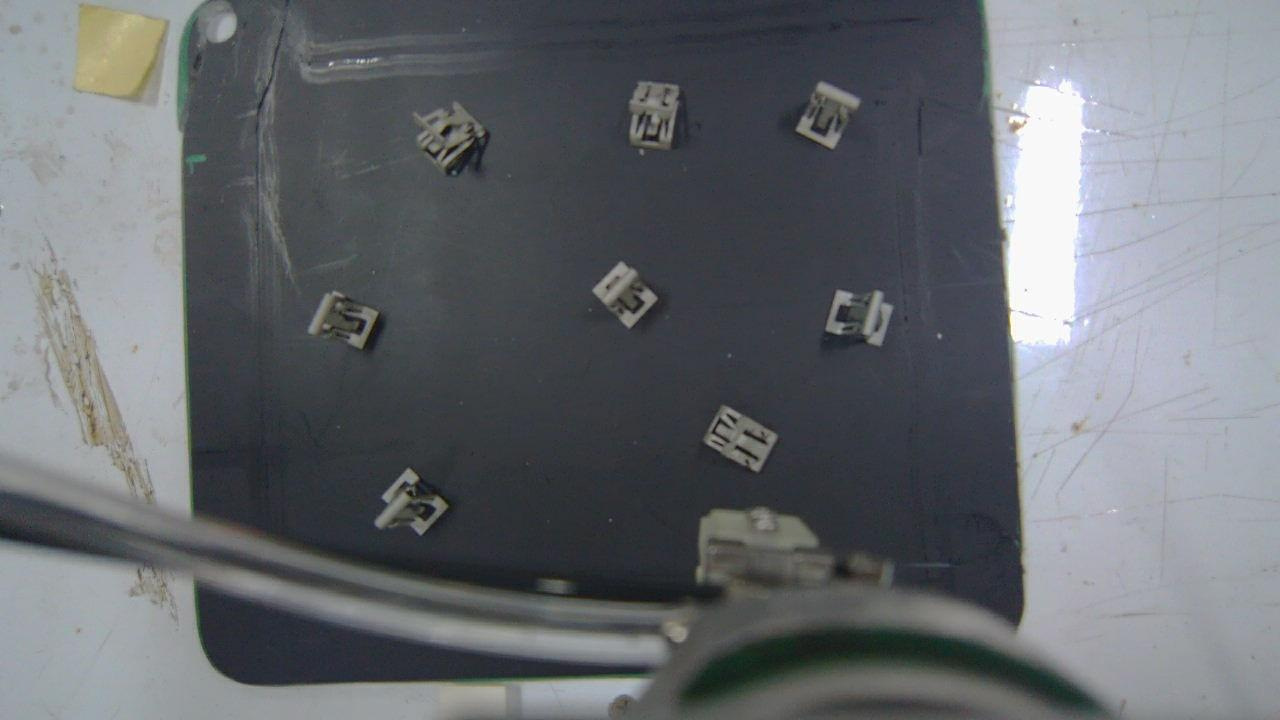ng: (702, 403, 778, 475), (413, 99, 487, 171), (307, 289, 379, 352), (796, 81, 861, 148), (826, 288, 895, 345), (629, 79, 683, 150)
pass: (372, 469, 447, 535), (594, 261, 659, 329)
